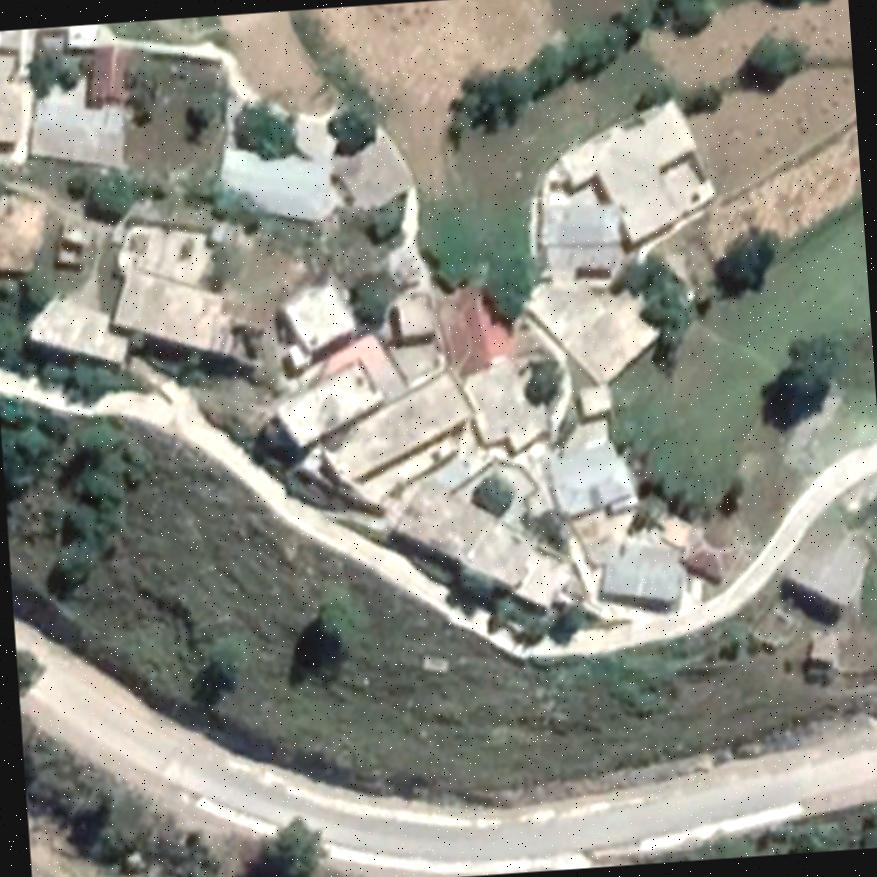Solarpanel: (572, 266, 611, 278)
